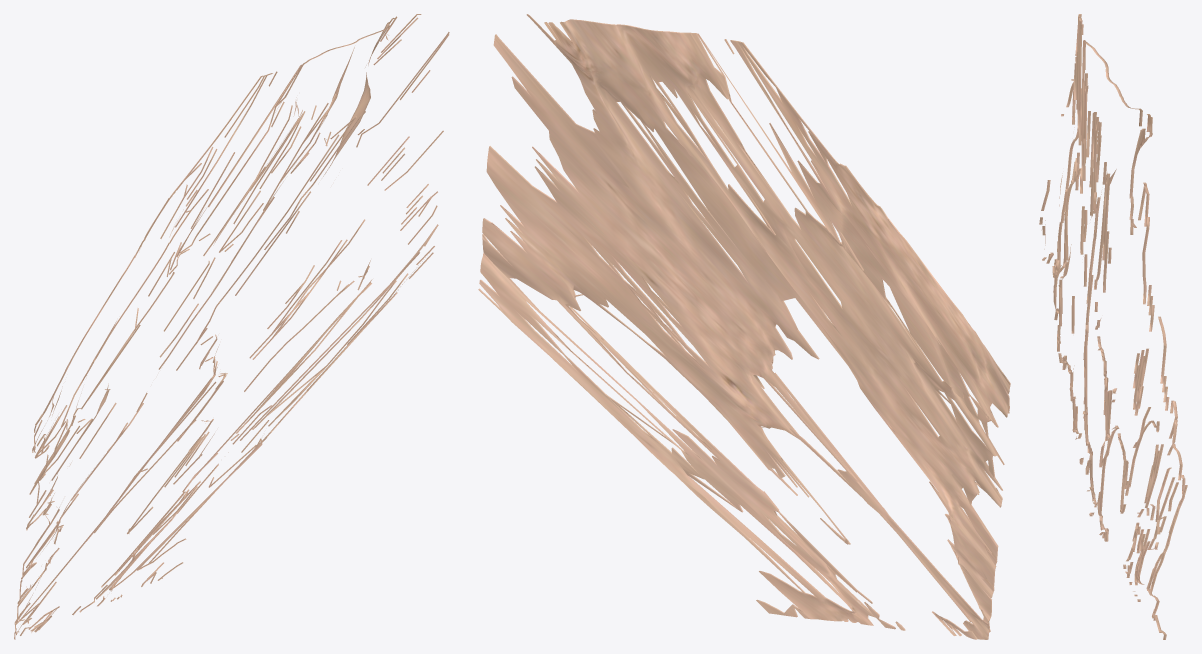
3 renders of one model, left to right at view 1: azimuth 30°, elevation 25°; view 2: azimuth 150°, elevation 25°; view 3: azimuth 270°, elevation 25°, orthographic. The views are drawn at different scales.
Bounding box in the file's own units: 15.59 × 16.71 × 3.4.
1 material, 1 textured.
